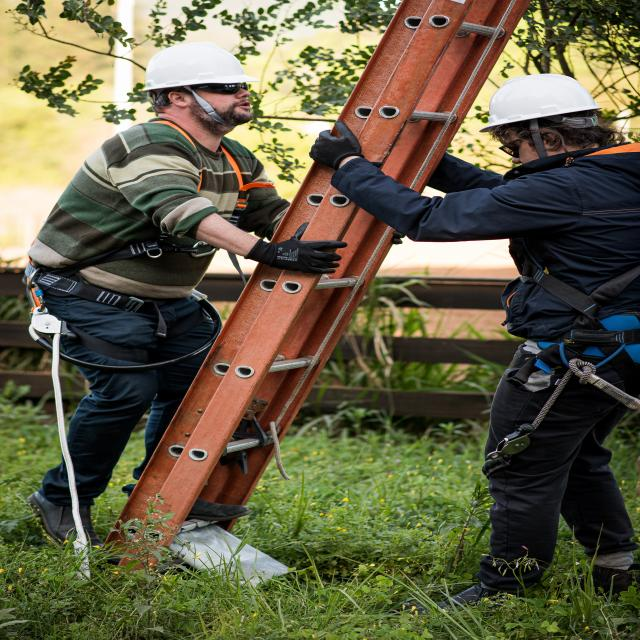botas: (24, 485, 102, 550)
capacete: (472, 72, 605, 134), (138, 39, 266, 94)
corda de vida: (13, 116, 276, 368)
luva: (243, 221, 351, 281), (304, 117, 362, 171)
